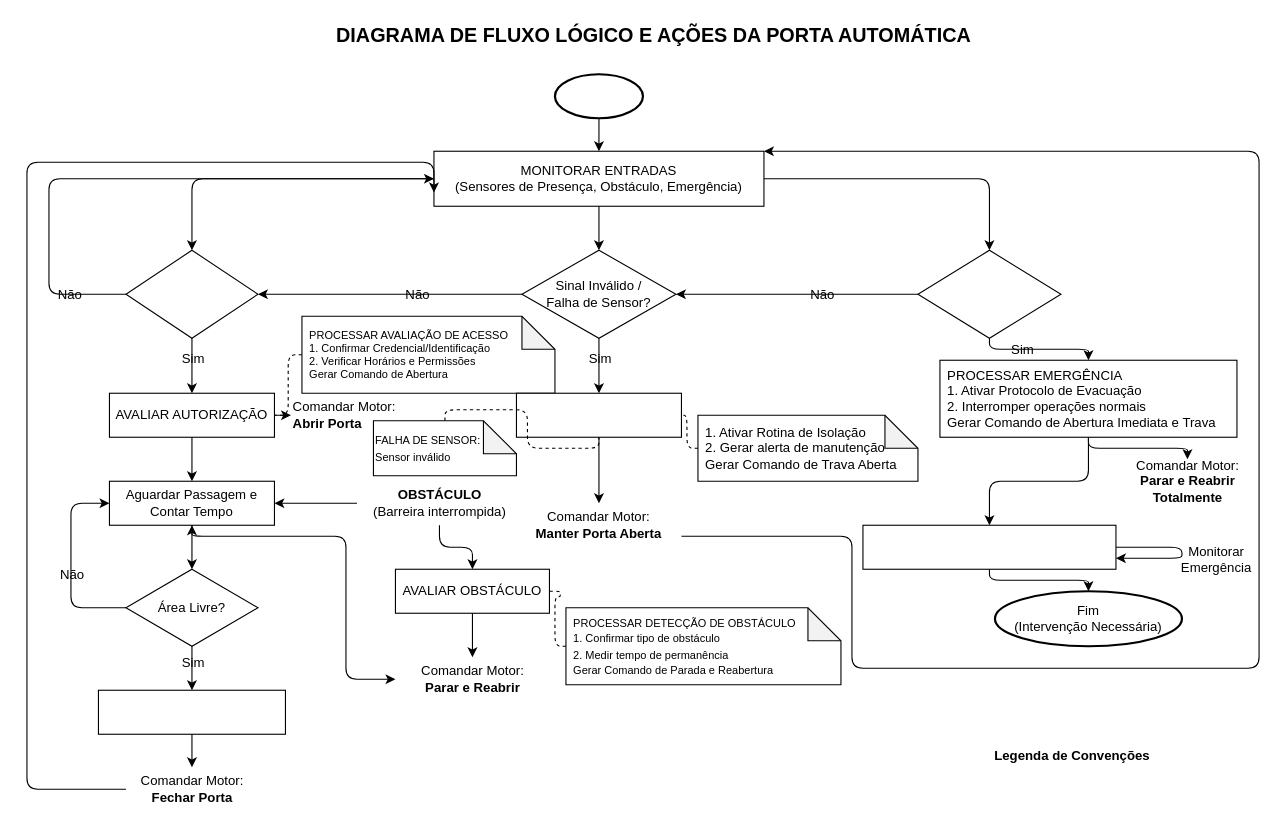
Some shapes in this 1288 by 829 pixel diagram are drawn without their labels. The centre of each missing label's shape, as x and y in pixels:
Comando Prioritário?: point (989, 293)
ESTADO SEGURO (Abertura Plena e Manutenção): point (989, 546)
INICIAR FECHAMENTO APÓS ESPERA: point (191, 711)
Início: point (598, 96)
Presença Detectada?: point (191, 293)
PROCESSAR FALHA DE SEGURANÇA: point (598, 414)
